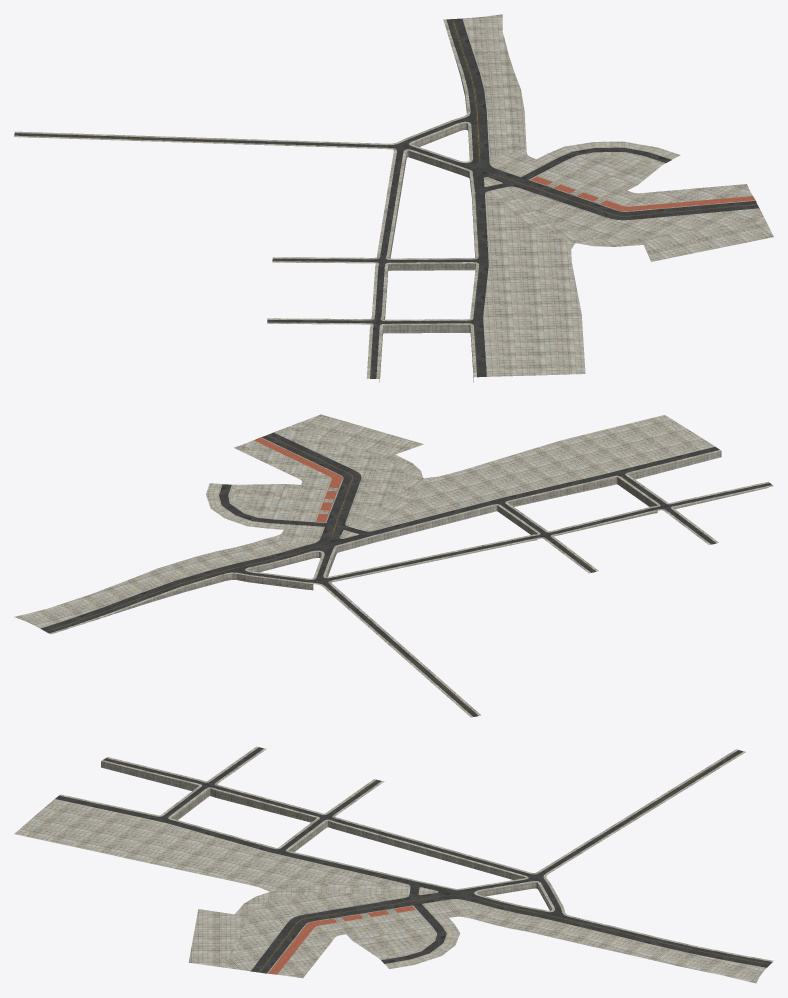
File: SM_Ground01.fbx
3 renders of one model, top to bottom at view 1: azimuth 30°, elevation 25°; view 2: azimuth 150°, elevation 25°; view 3: azimuth 270°, elevation 25°, orthographic. The views are drawn at different scales.
Visible parts, largest first — view 1: SM_Ground01; view 2: SM_Ground01; view 3: SM_Ground01.
Boxes of the visible parts, left/top/right/bottom form: SM_Ground01: left=14, top=14, right=773, bottom=382; SM_Ground01: left=14, top=414, right=773, bottom=717; SM_Ground01: left=14, top=746, right=773, bottom=983.
Size of the model in its own units: 33238 by 525 by 46303.
